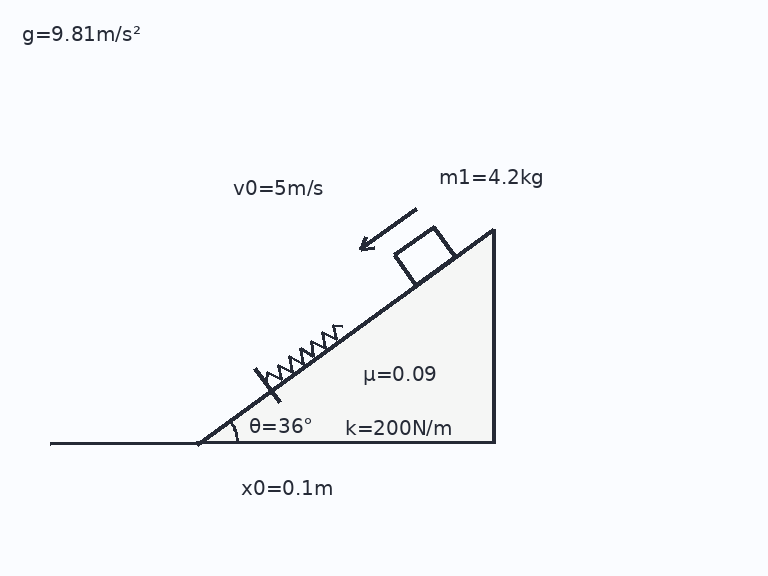block: (392, 225, 457, 286)
ramp: (195, 226, 495, 445)
spring: (264, 322, 345, 384)
